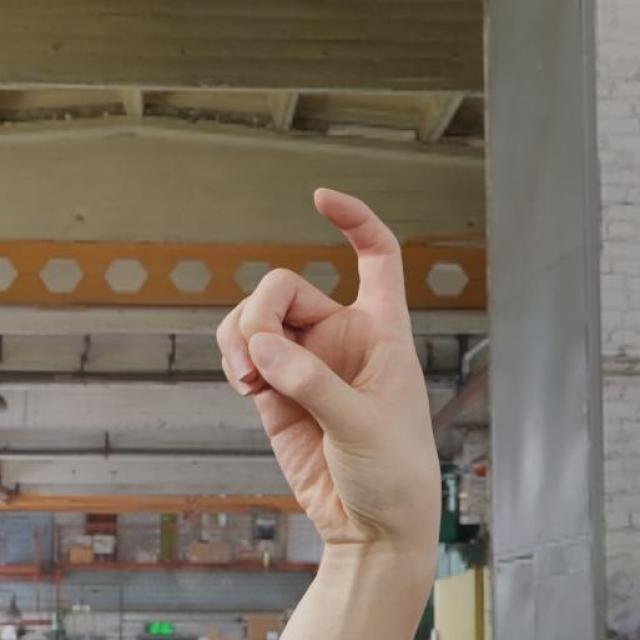X: (202, 185, 440, 594)
